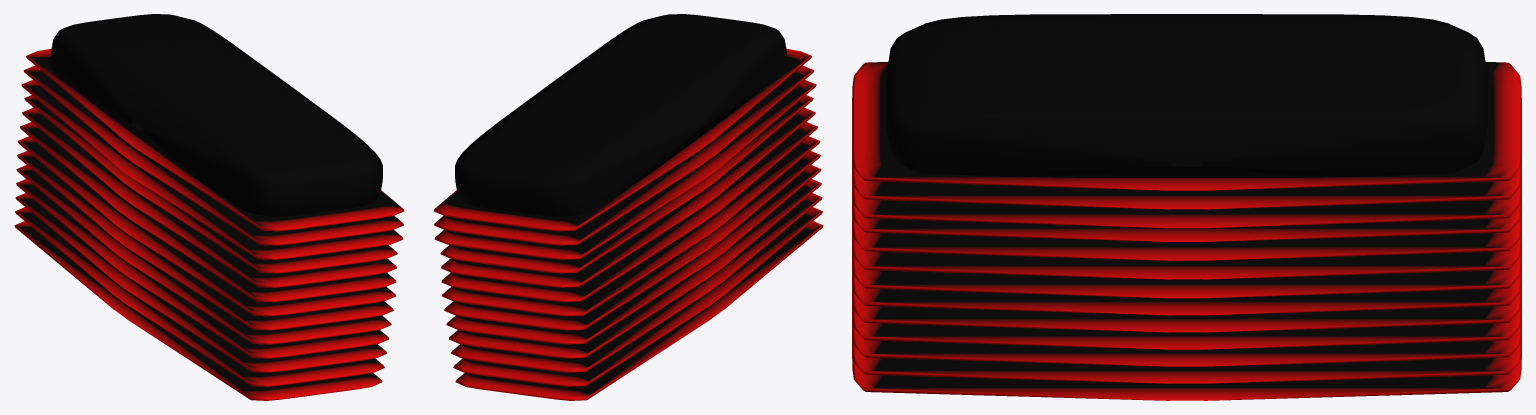
File: cylinders.glb
3 renders of one model, left to right at view 1: azimuth 30°, elevation 25°; view 2: azimuth 150°, elevation 25°; view 3: azimuth 270°, elevation 25°, orthographic. The views are drawn at different scales.
Visible parts, largest first — view 1: cylinders; view 2: cylinders; view 3: cylinders.
Boxes of the visible parts, box(x1,y1,x2,y2) form: cylinders: box(14, 14, 404, 400); cylinders: box(433, 14, 823, 400); cylinders: box(852, 14, 1521, 400).
Bounding box in the file's own units: 0.1689 × 0.2016 × 0.4.
